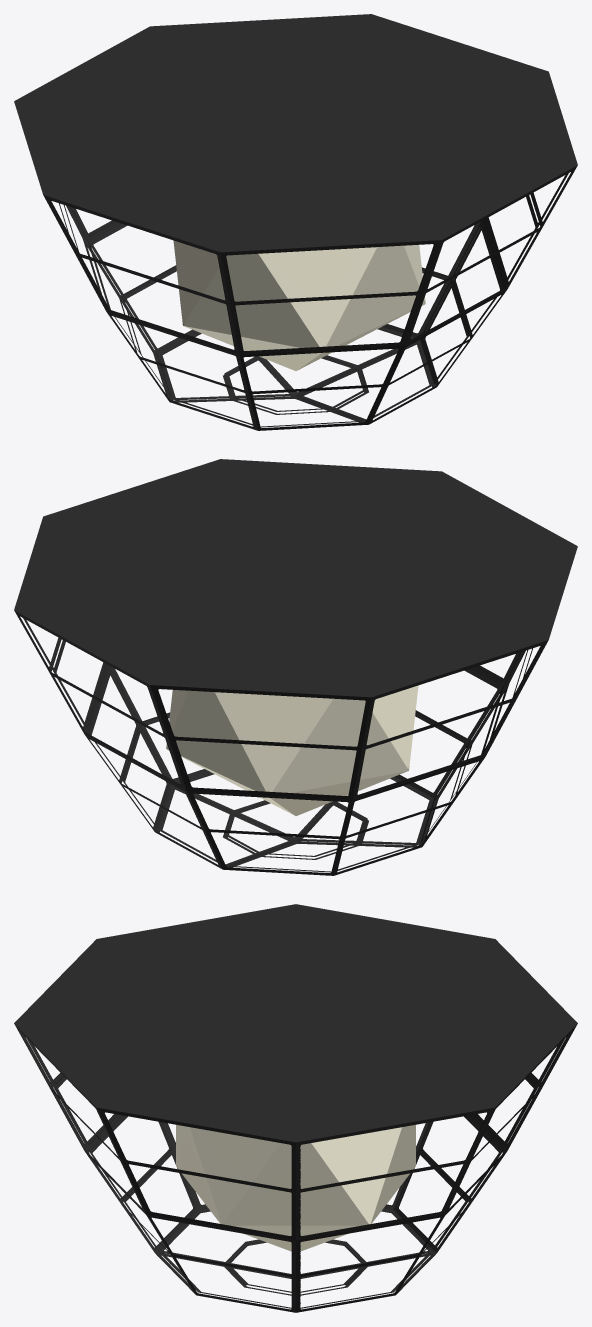
The model's file is lightbulb.dae.
3 renders of one model, top to bottom at view 1: azimuth 30°, elevation 25°; view 2: azimuth 150°, elevation 25°; view 3: azimuth 270°, elevation 25°, orthographic. The views are drawn at different scales.
Parts seen in each view (by area): view 1: lightbulb_mesh, lightbulb_mesh.bulb; view 2: lightbulb_mesh, lightbulb_mesh.bulb; view 3: lightbulb_mesh, lightbulb_mesh.bulb.
Boxes of the visible parts, <box> form: lightbulb_mesh: <box>14,14,577,430</box>; lightbulb_mesh.bulb: <box>173,240,425,370</box>; lightbulb_mesh: <box>14,459,577,875</box>; lightbulb_mesh.bulb: <box>166,685,418,815</box>; lightbulb_mesh: <box>14,904,577,1312</box>; lightbulb_mesh.bulb: <box>176,1124,415,1251</box>.
Bounding box in the file's own units: 1 × 1 × 0.5.
